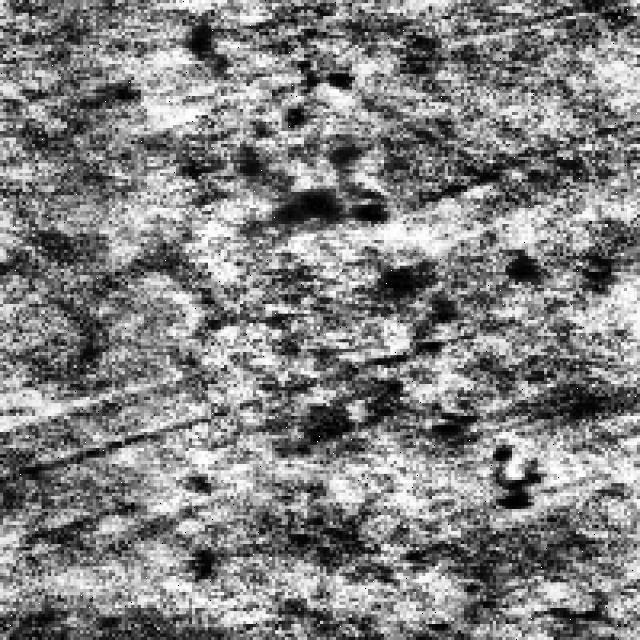Crazing: (378, 227, 540, 506), (233, 48, 384, 221)
